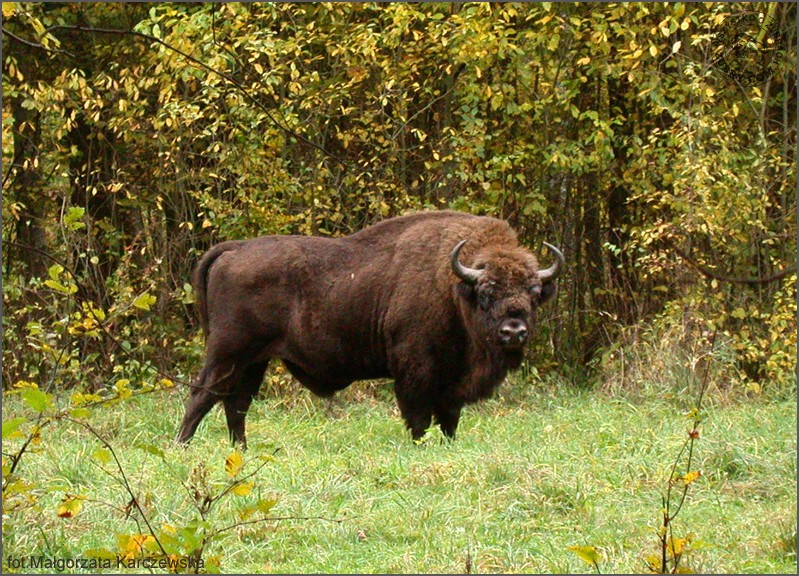zubr: (170, 191, 590, 467)
